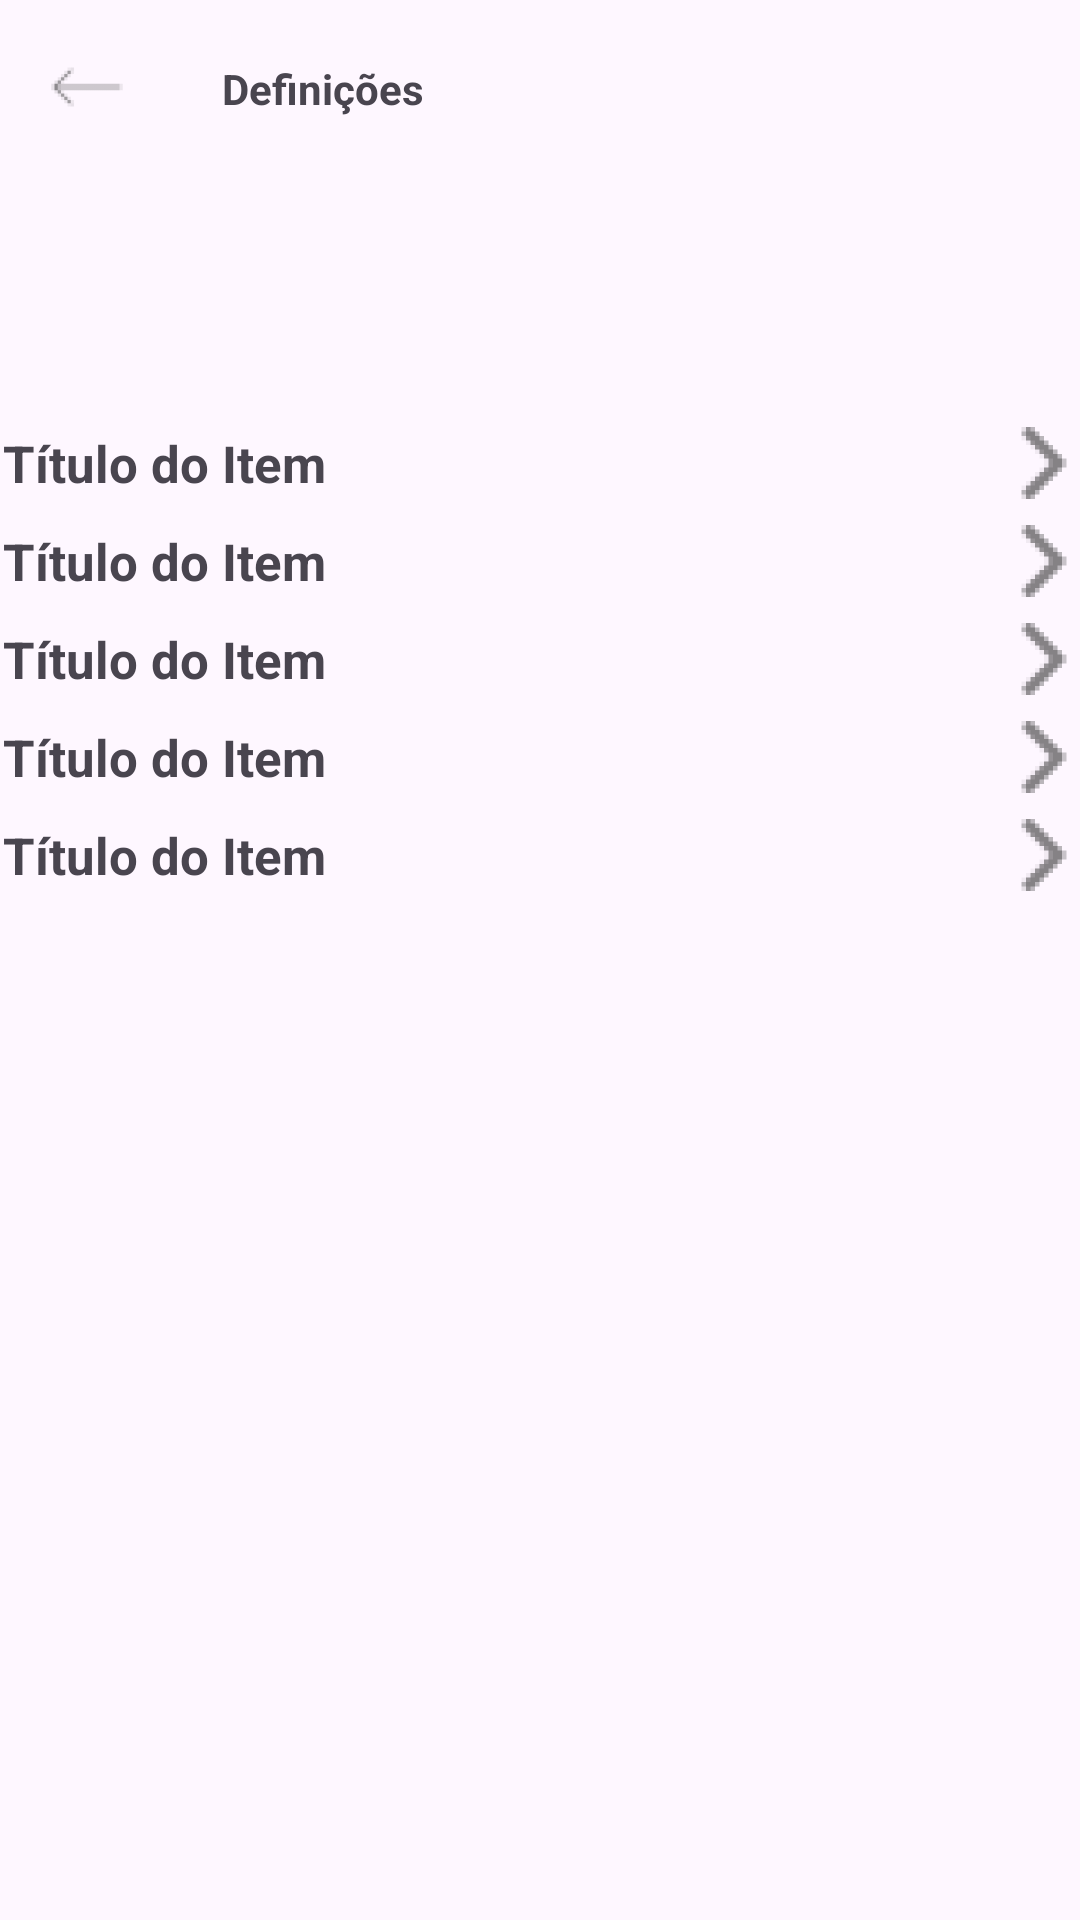

Icon click points for this 1080×1920 phone screenshot, format (x=x, y=y):
seta direita: (x=1044, y=463), (x=1044, y=561), (x=1044, y=659), (x=1044, y=757), (x=1044, y=855)
voltar: (x=87, y=87)
